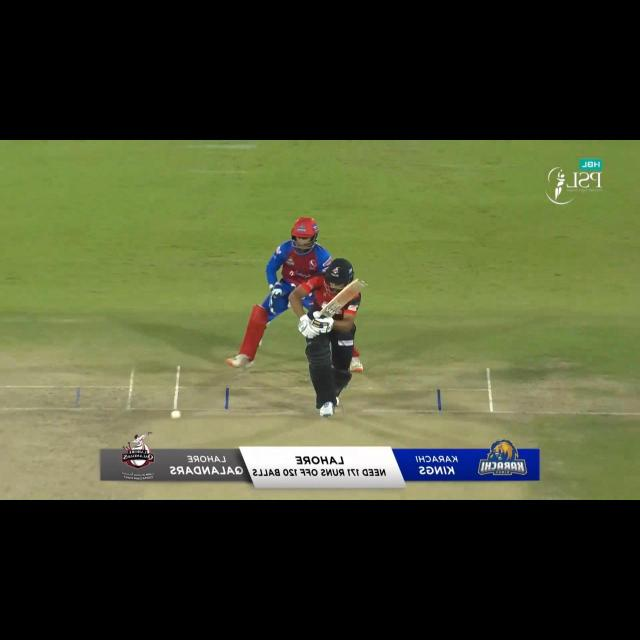bat: (323, 278, 364, 320)
toe: (354, 278, 366, 290)
